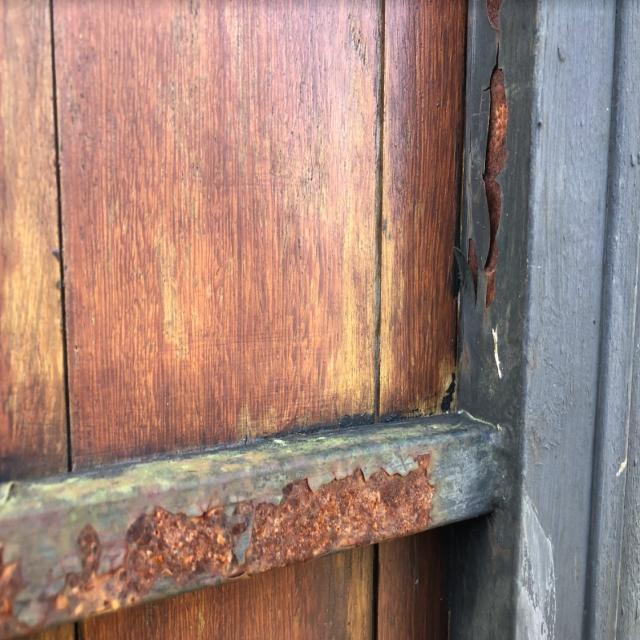Corrosion: (2, 0, 471, 478), (0, 449, 439, 637), (480, 66, 509, 308)
